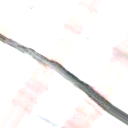crackTip: (1, 30, 128, 123)
